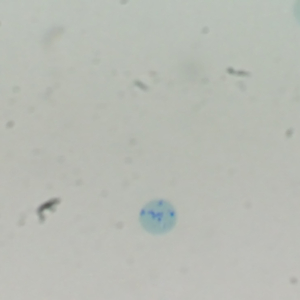aggregate reticulocyte: (137, 198, 178, 236)
